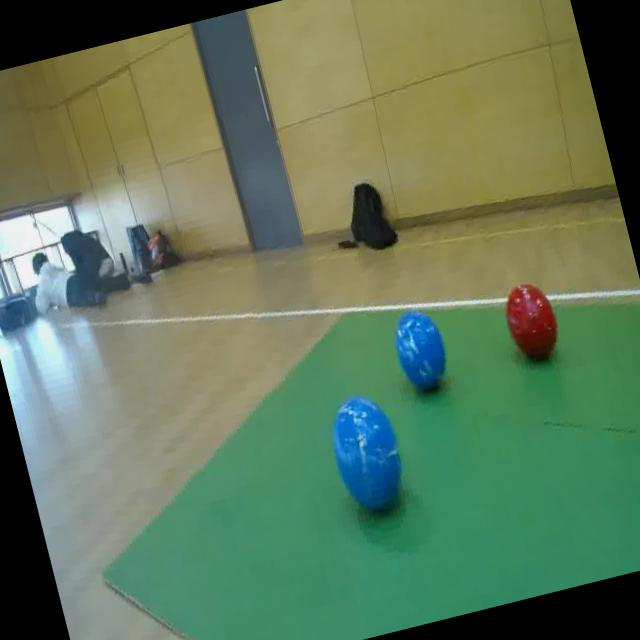blue_ball: (321, 388, 414, 520), (388, 306, 454, 398)
red_ball: (496, 274, 567, 372)
